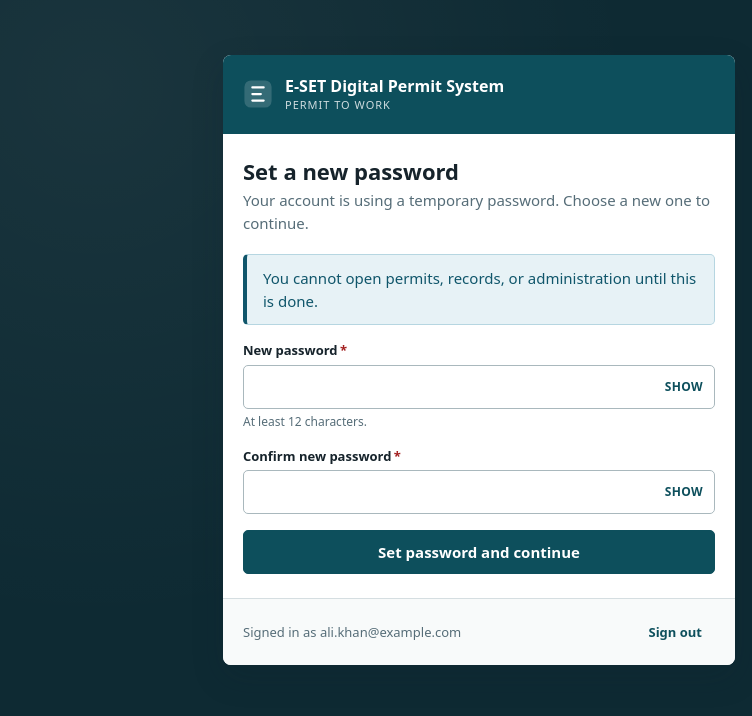
Test case: a rejected change › shows the failure and clears the password rather than leaving it on screen
Type "a-strong-enough-password" into the password field labelled "New password*" at (479, 387), box [243,365,715,409]
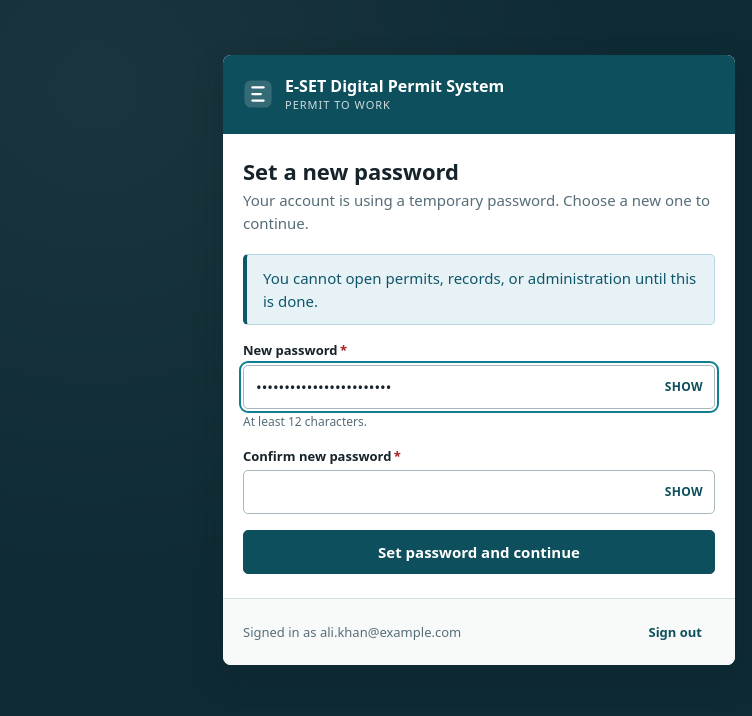
Type "a-strong-enough-password" into the password field labelled "Confirm new password*" at (479, 492), box [243,470,715,514]
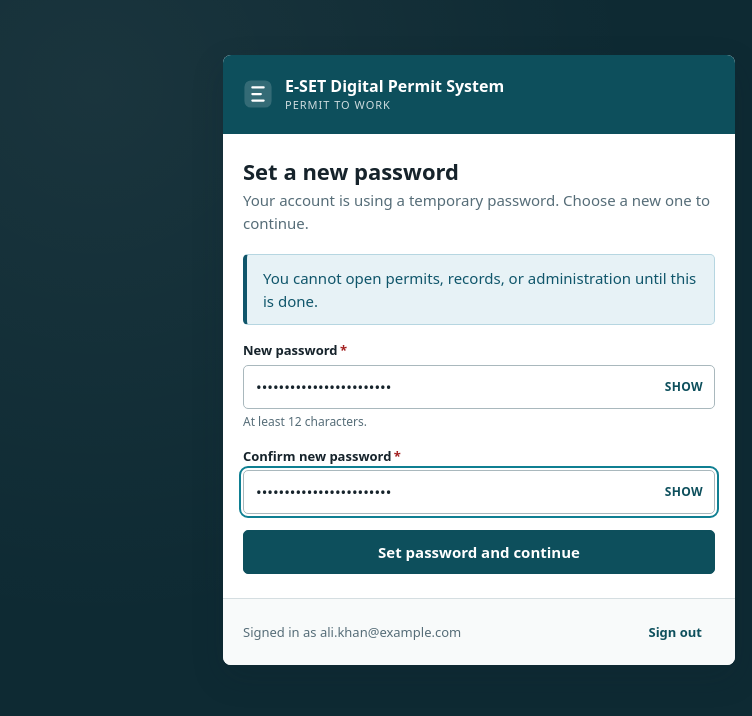
Click the button "Set password and continue" at (479, 552), box [243,530,715,574]
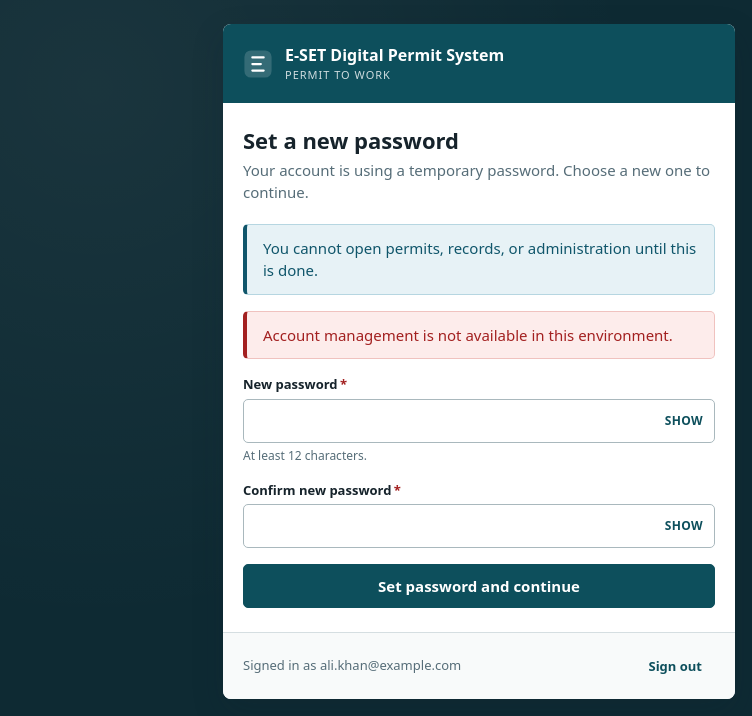
Now the message "Account management is not available in this environment." is shown, box [243,310,715,359]
Now the password field labelled "New password*" is empty, box [243,398,715,442]
